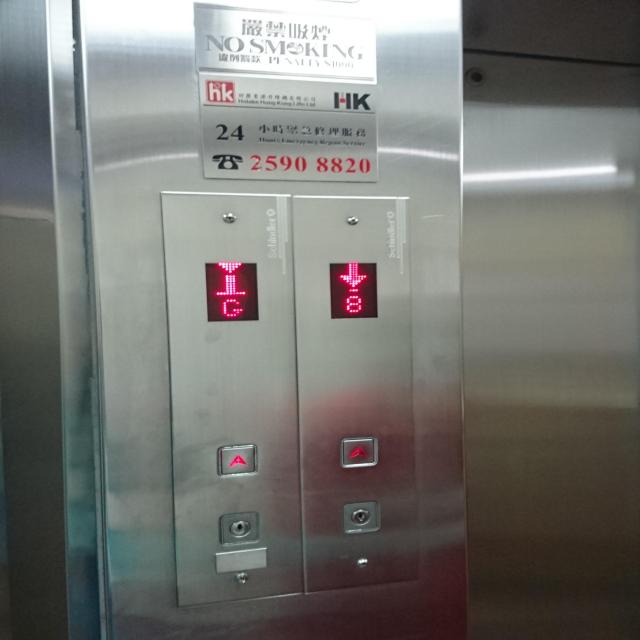bt_keyhole: (214, 510, 262, 547), (340, 499, 383, 537)
led: (201, 256, 263, 325), (328, 258, 379, 322)
up: (215, 445, 260, 478), (336, 435, 378, 470)
